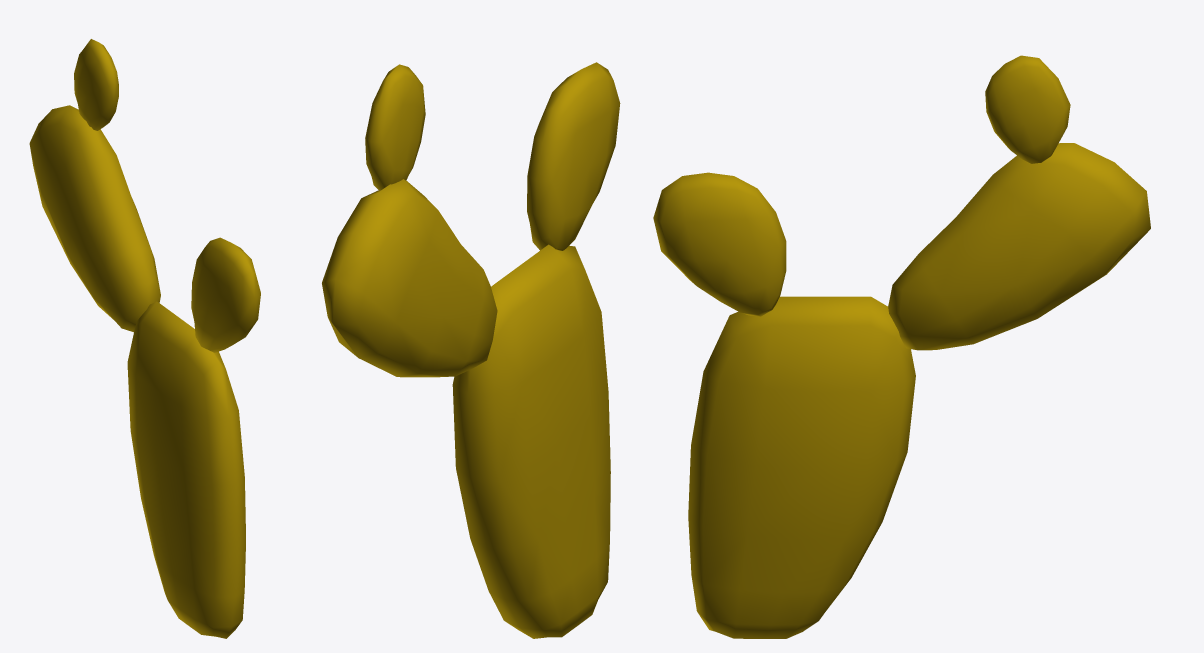
File: Cactus_6.fbx
3 renders of one model, left to right at view 1: azimuth 30°, elevation 25°; view 2: azimuth 150°, elevation 25°; view 3: azimuth 270°, elevation 25°, orthographic. The views are drawn at different scales.
Parts seen in each view (by area): view 1: CactusFlowers_5; view 2: CactusFlowers_5; view 3: CactusFlowers_5.
Part boxes in pixels (box(x1,y1,x2,y2)): CactusFlowers_5: box(29, 39, 260, 638); CactusFlowers_5: box(322, 62, 620, 638); CactusFlowers_5: box(653, 55, 1150, 638).
Size of the model in its own units: 11.17 by 93.82 by 73.4.
